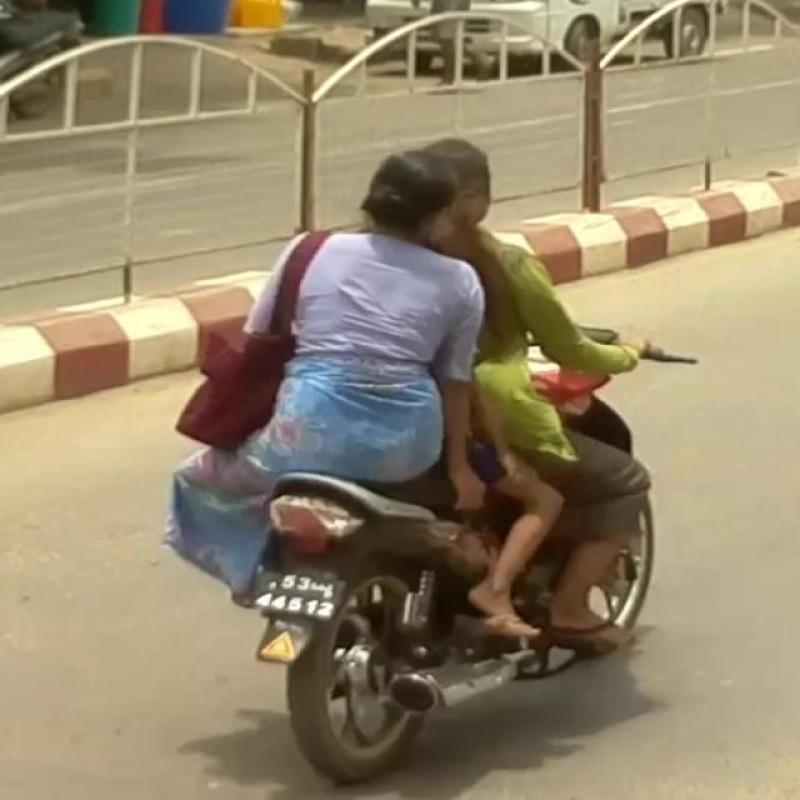nohelmet: (347, 148, 518, 250)
